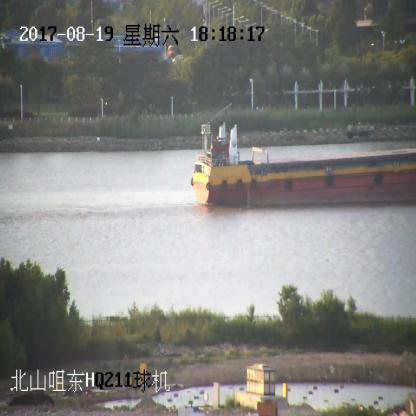Bulk Carrier: (191, 122, 415, 210)
